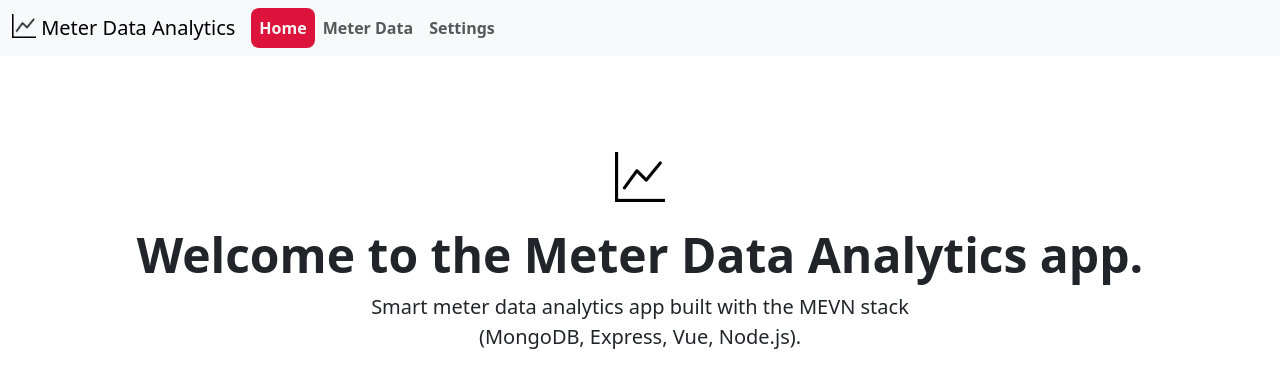
Test case: App › can navigate back to Home after navigating to Settings
Click the link with class "nav-link" showing "Settings" at [462, 28], box left=429, top=17, right=495, bottom=39
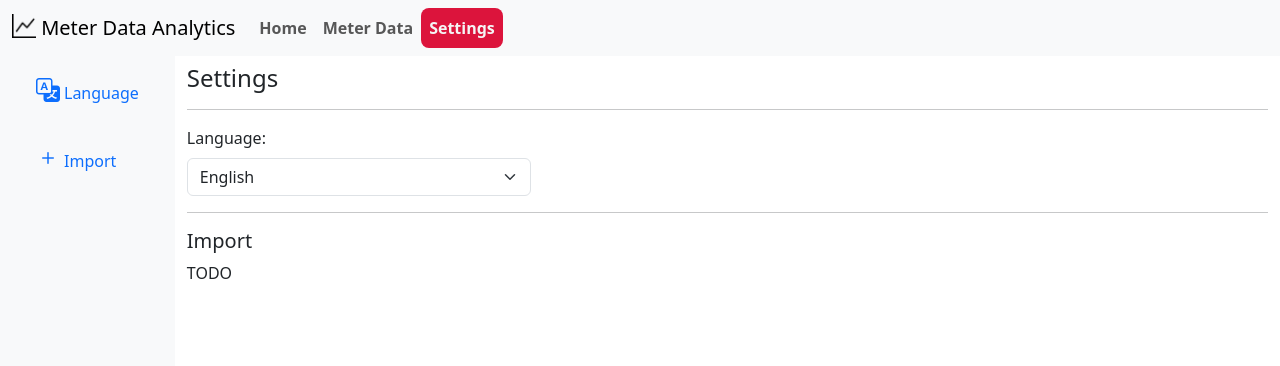
expect the heading "Settings" is shown: met, box left=187, top=61, right=278, bottom=94
Click the link with class "nav-link" showing "Home" at [283, 28], box left=259, top=17, right=307, bottom=39
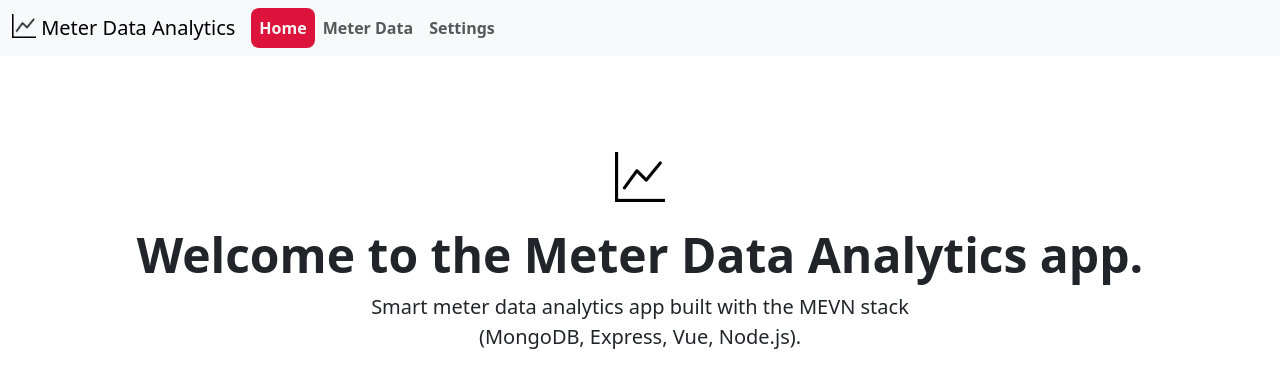
expect the heading "Welcome to the Meter Data Analytics app." is shown: met, box left=137, top=222, right=1143, bottom=287
